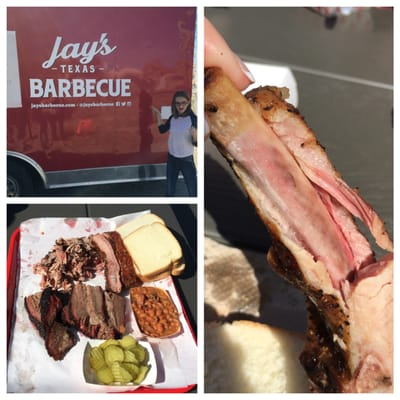soup: (116, 211, 185, 282)
